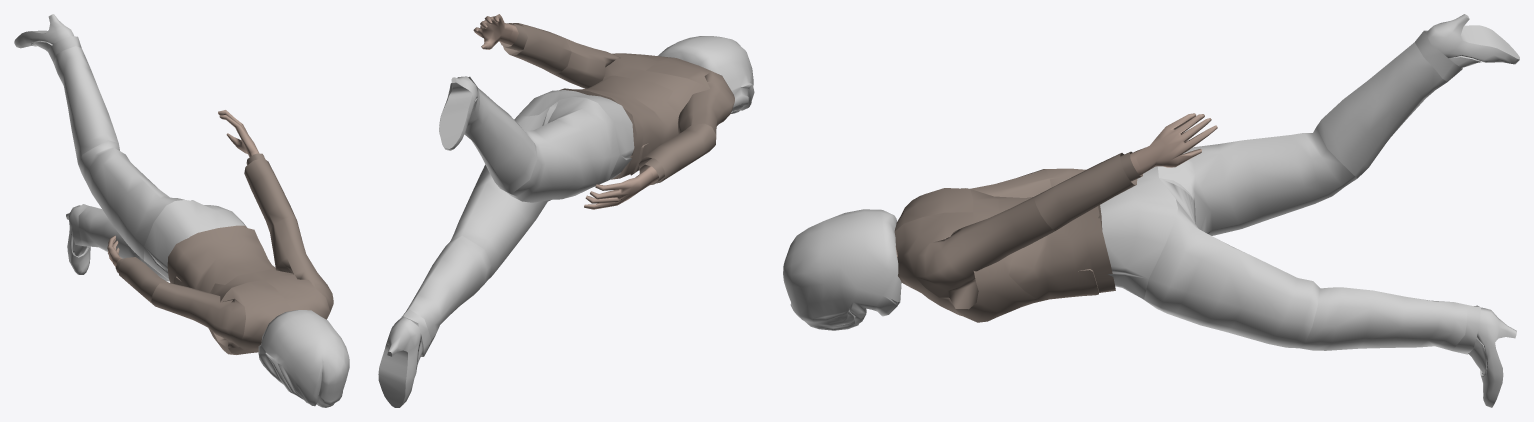
Rendered from woman.obj.
The picture shows the model from 3 angles, left to right: view 1: azimuth 30°, elevation 25°; view 2: azimuth 150°, elevation 25°; view 3: azimuth 270°, elevation 25°; orthographic projection. The views are drawn at different scales.
Bounding box in the file's own units: 1.2 × 2.16 × 3.92.
